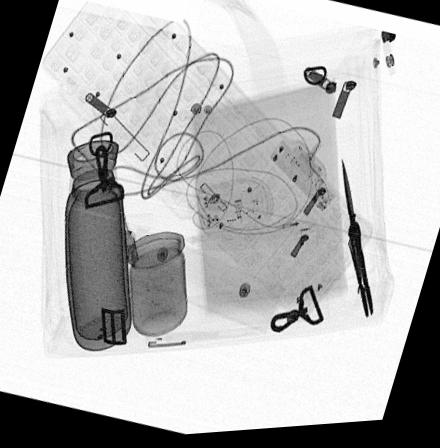Knife: (340, 158, 374, 325)
